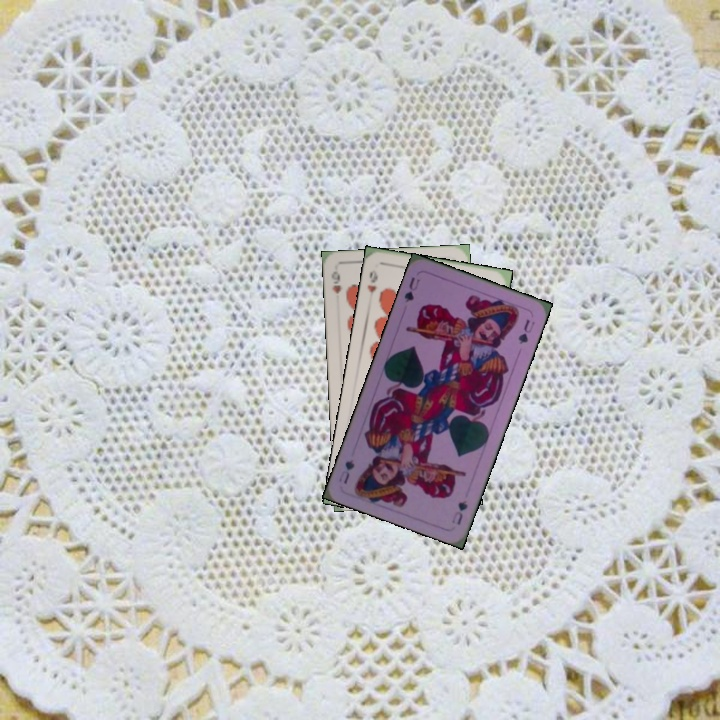GU: (400, 273, 422, 305), (448, 496, 470, 527)
H9: (327, 267, 345, 296), (364, 266, 380, 295)
